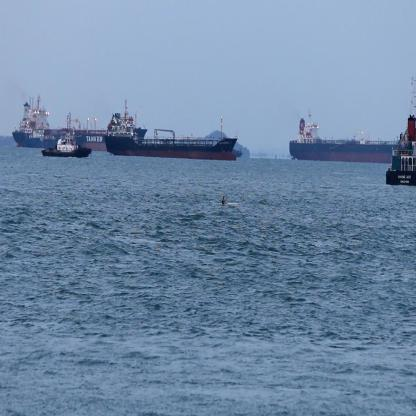Container Ship: (106, 98, 238, 161), (290, 107, 400, 163), (11, 94, 108, 151), (233, 146, 243, 157)
